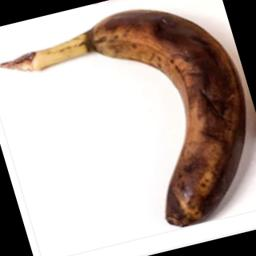Banana Rotten: (0, 1, 256, 242)
